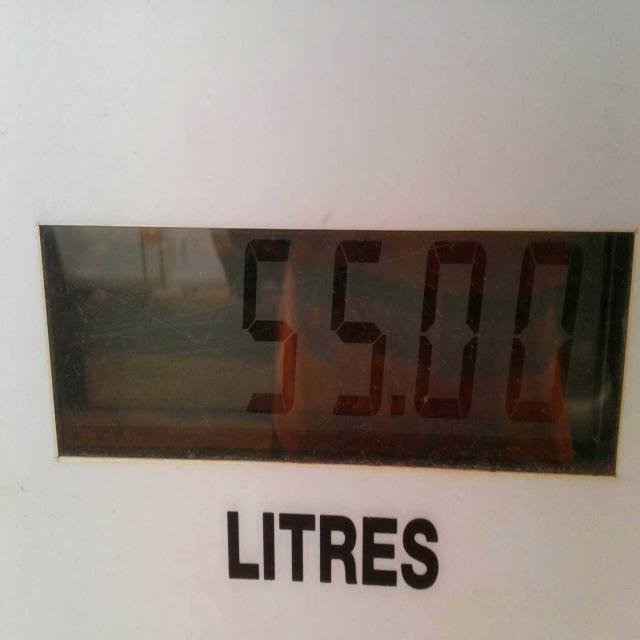.: (389, 386, 402, 414)
0: (507, 236, 582, 428), (416, 240, 488, 424)
5: (242, 238, 302, 424), (333, 239, 390, 420)
